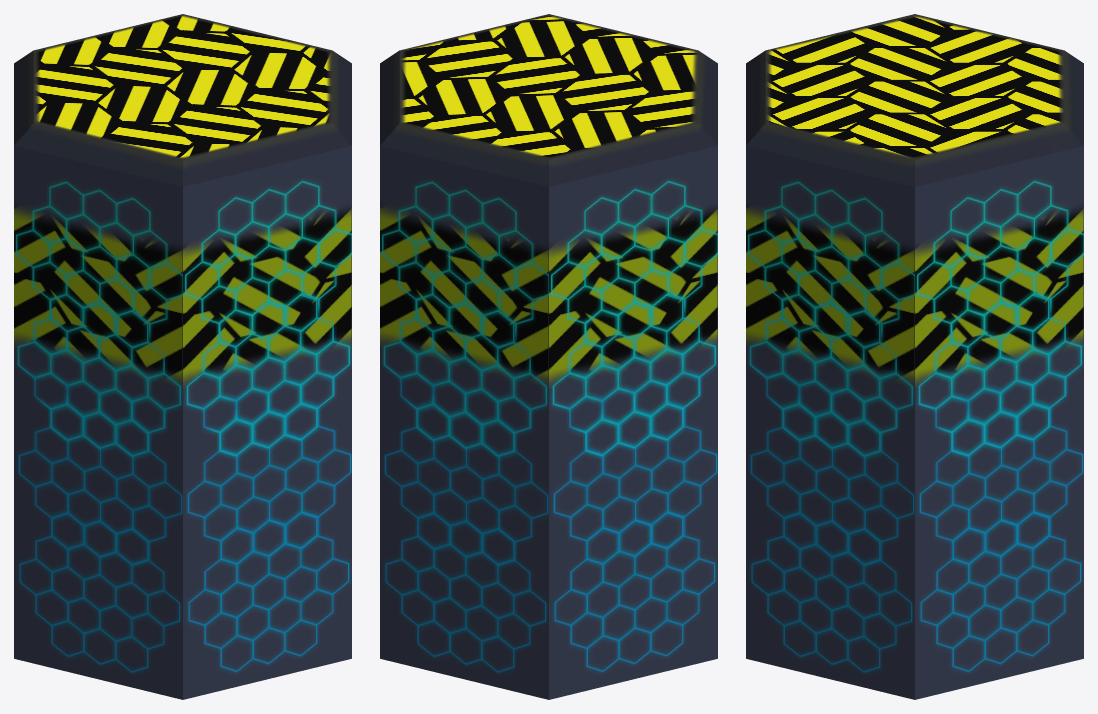
File: edge_tile.fbx
3 renders of one model, left to right at view 1: azimuth 30°, elevation 25°; view 2: azimuth 150°, elevation 25°; view 3: azimuth 270°, elevation 25°, orthographic.
Visible parts, largest first — view 1: Circle.035; view 2: Circle.035; view 3: Circle.035.
Part boxes in pixels (x1,y1,x2,y2): Circle.035: (14,14,351,699); Circle.035: (380,14,717,699); Circle.035: (746,14,1083,699).
Bounding box in the file's own units: 2 × 3 × 1.73.
